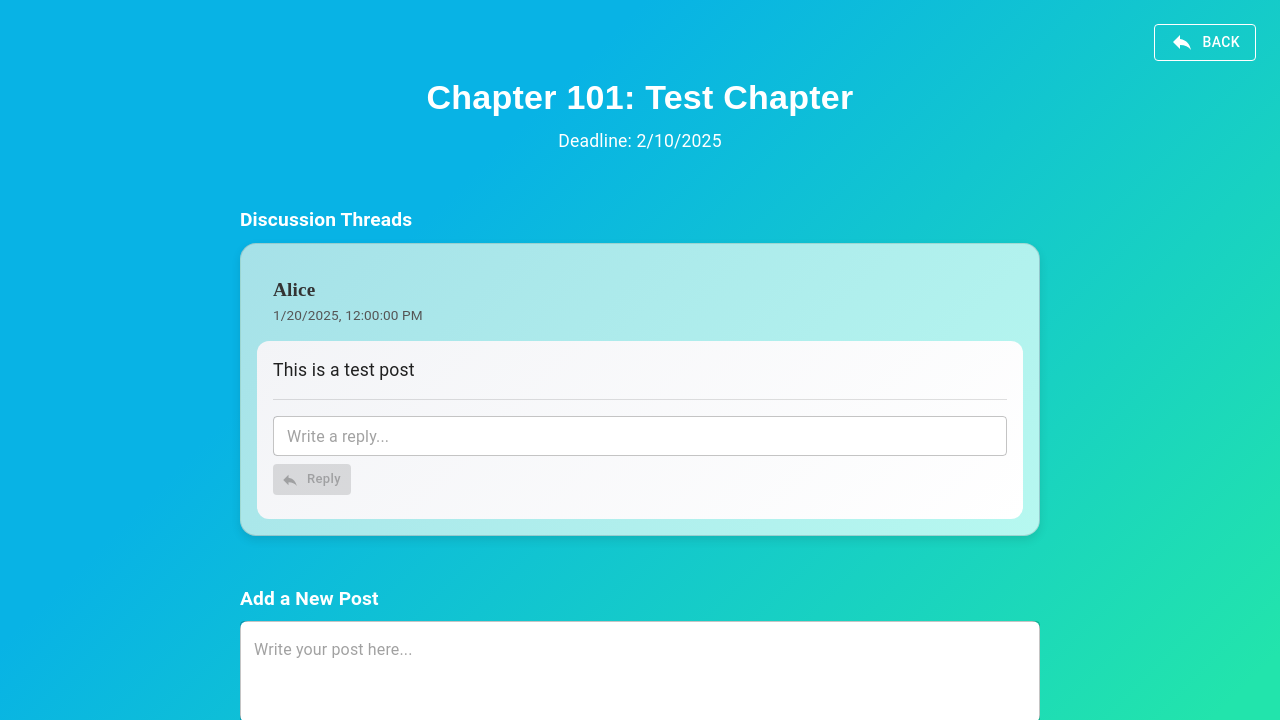
Test: DiscussionPage Component › allows replying to a discussion post
The width and height of the screenshot is (1280, 720).
Check: the text "Alice" is shown, box [273,279,316,300]
Note: find reply input and enter a reply
Type "This is a reply" into the field with placeholder "Write a reply..." at (640, 436), box [273,416,1007,456]
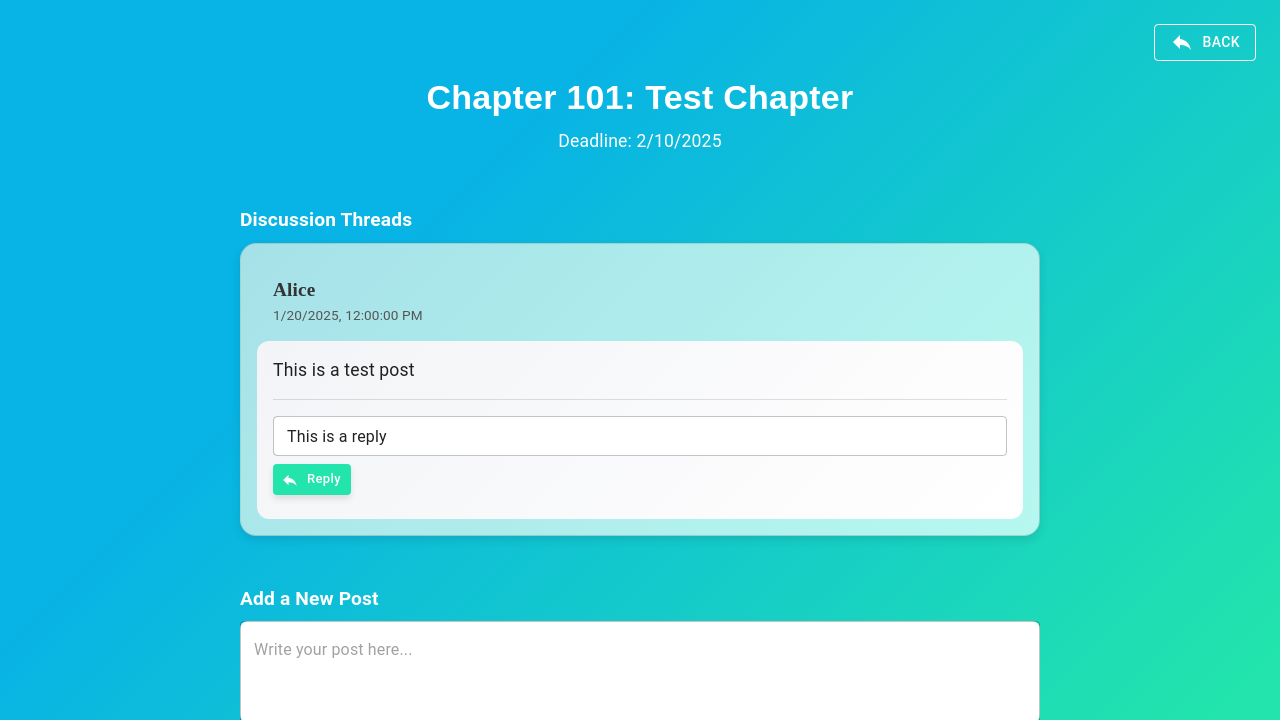
Check: the button "Reply" is enabled
Click the button "Reply" at (312, 480), box [273,464,351,495]
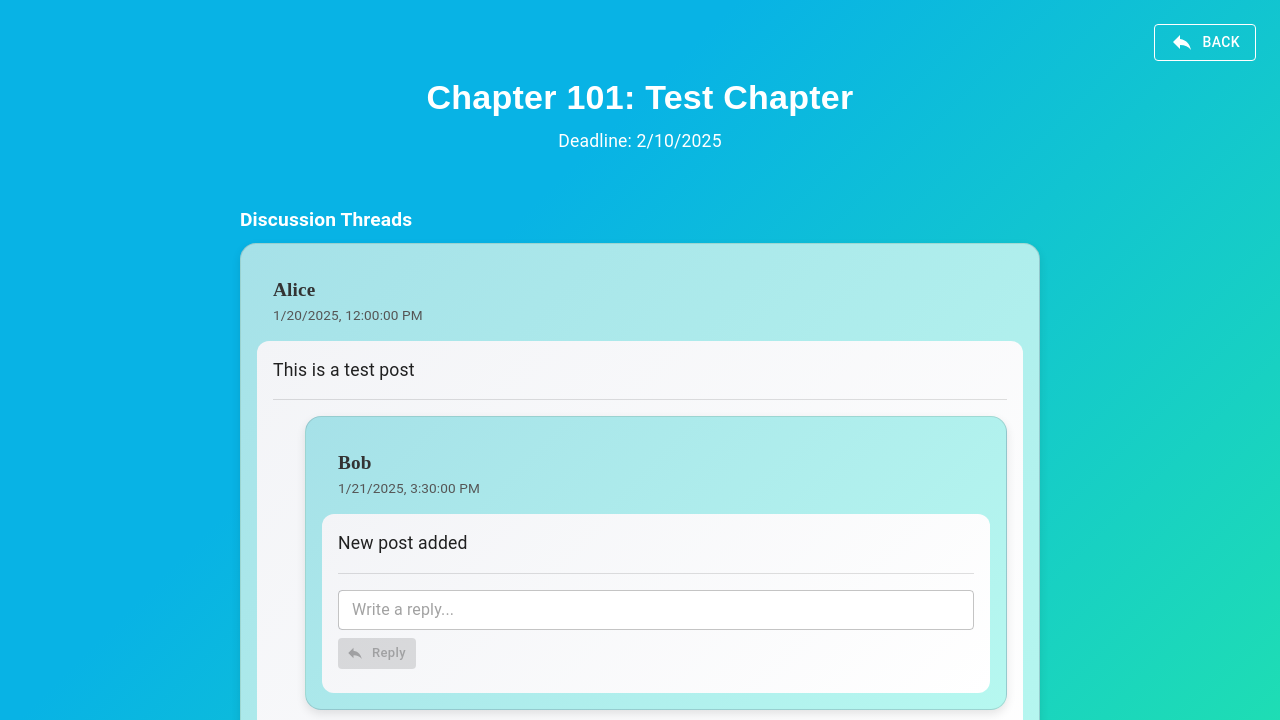
Check: the text "New post added" is shown, box [338,534,468,554]
